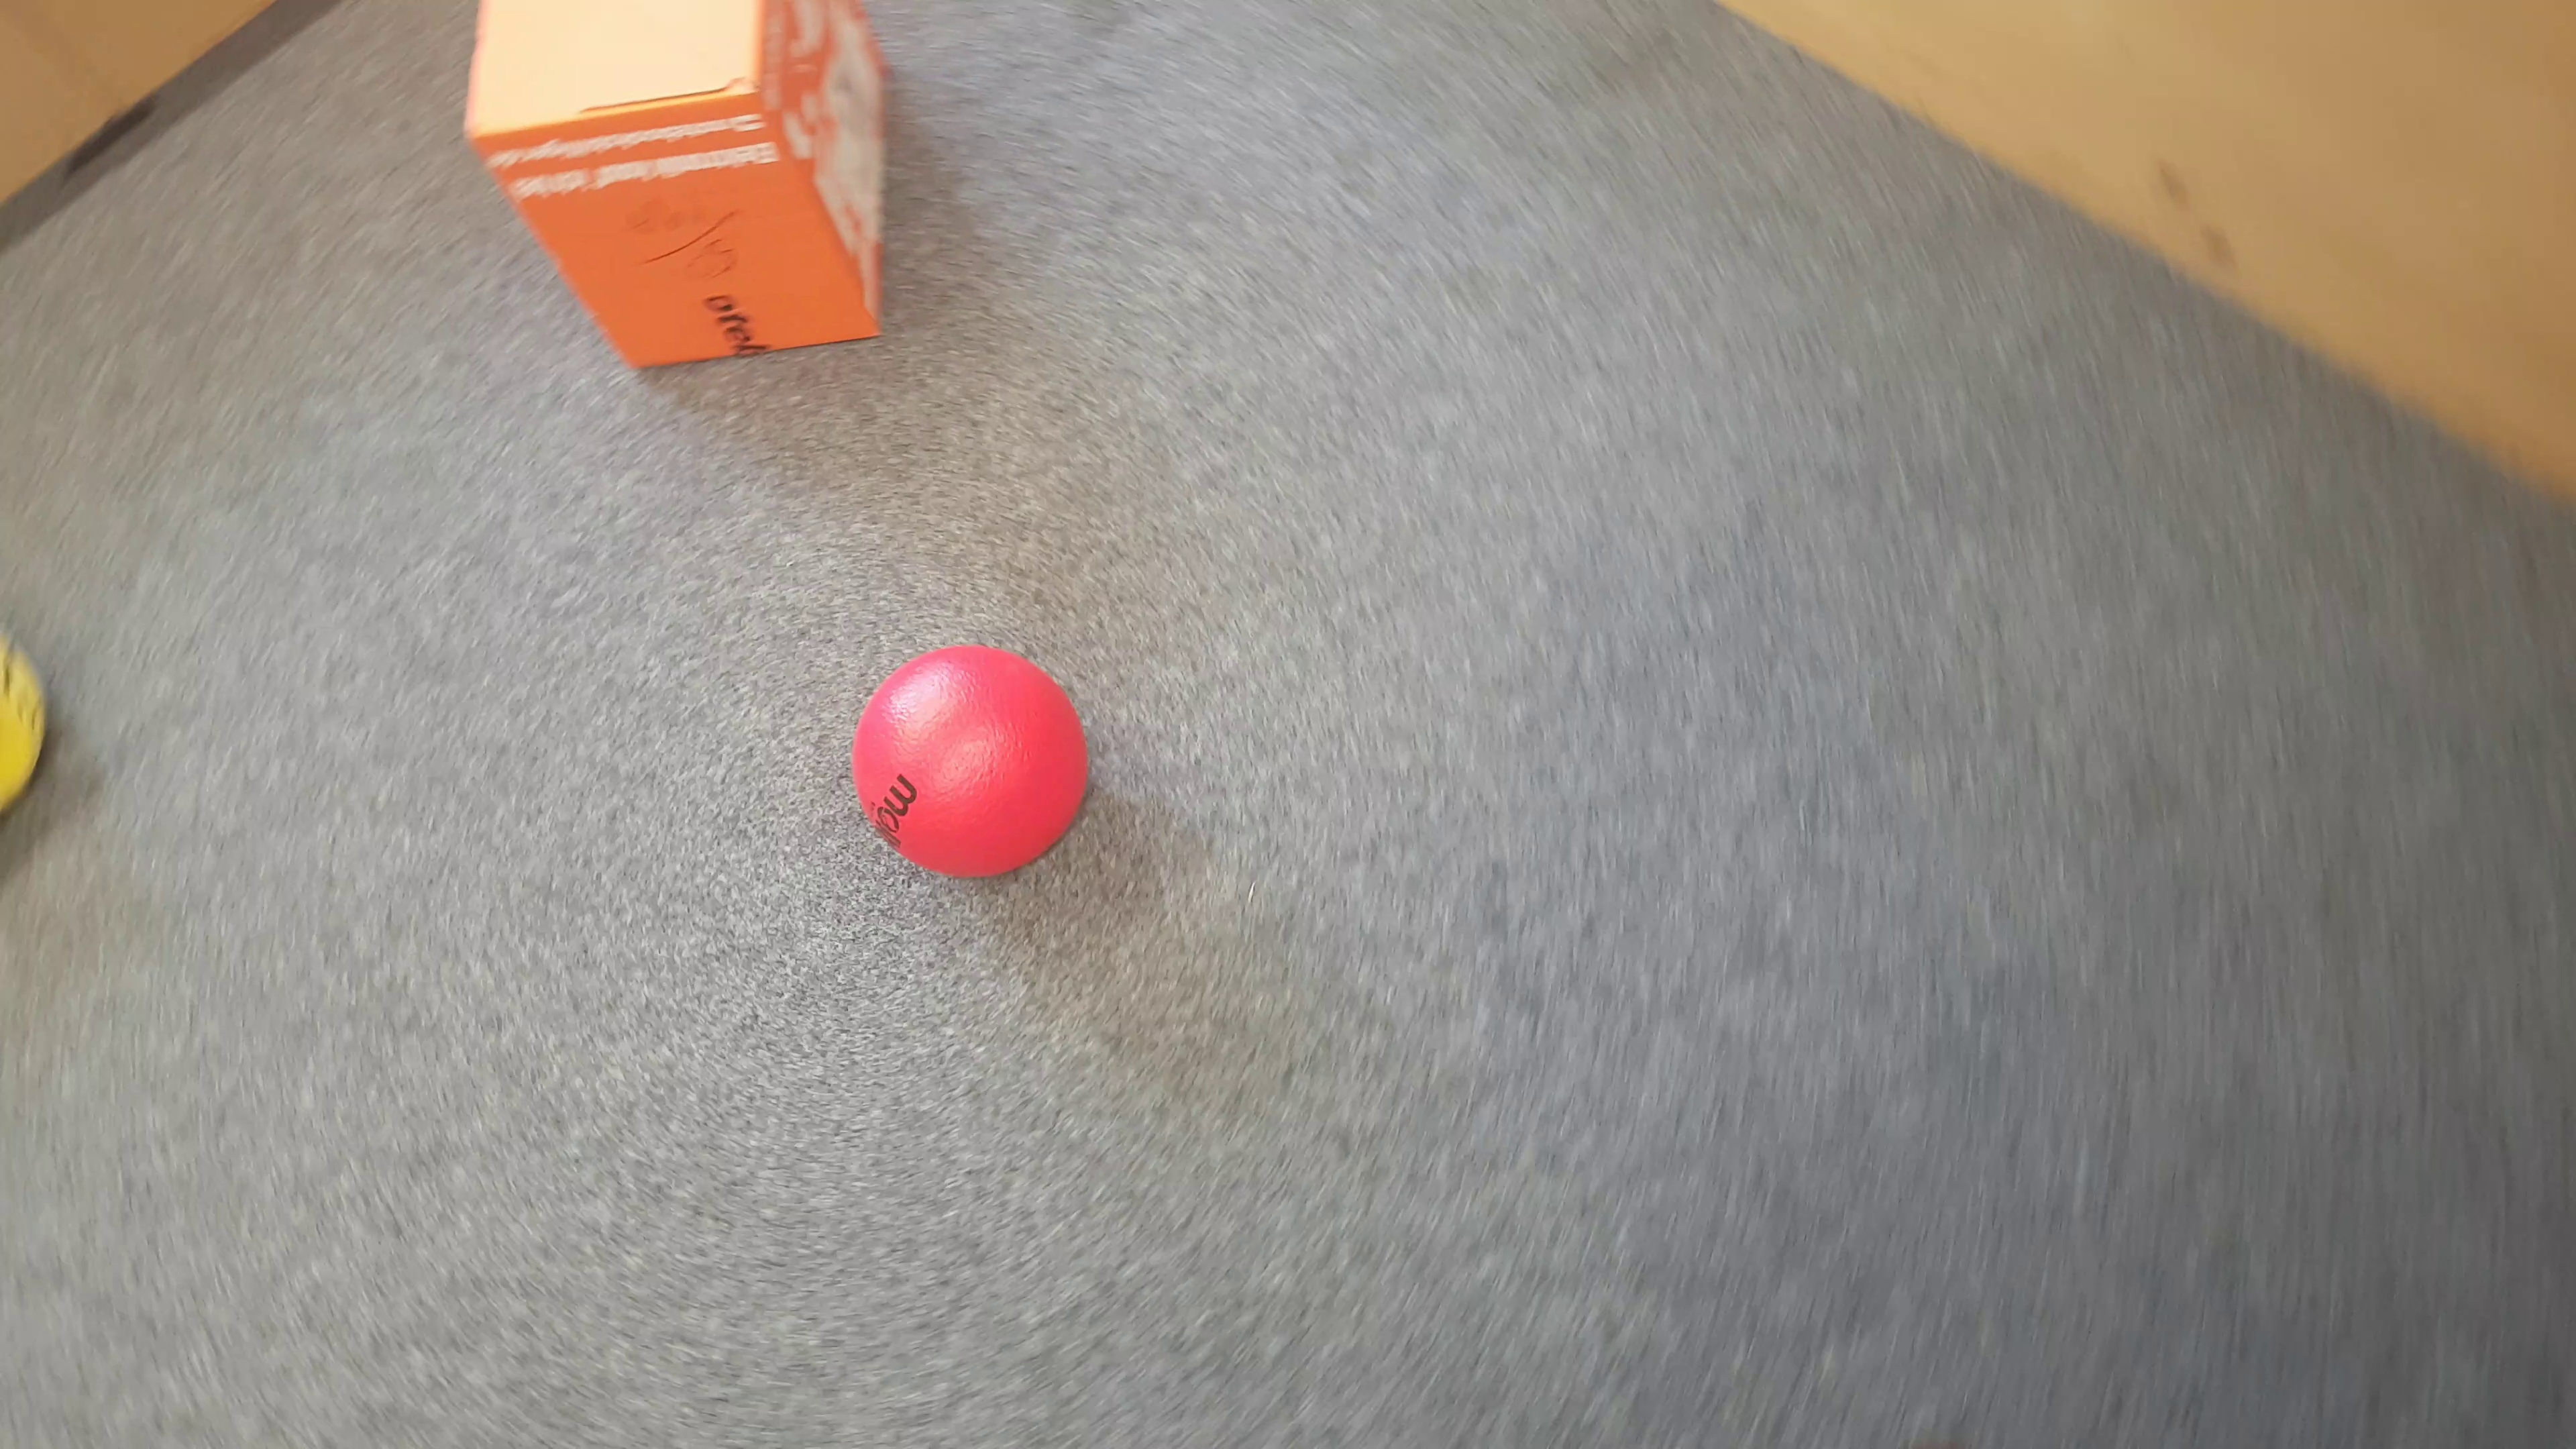grasp: (4, 635, 60, 823)
kick: (849, 649, 1093, 885)
push: (464, 0, 888, 372)
